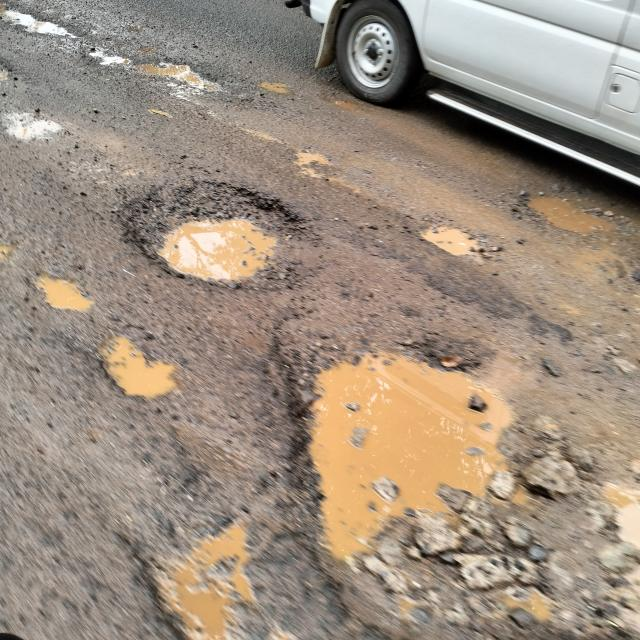pothole: (281, 326, 640, 640), (114, 180, 324, 301), (123, 512, 303, 640), (79, 328, 219, 404), (85, 35, 229, 100), (503, 196, 618, 250), (413, 200, 487, 280), (0, 5, 114, 54), (28, 262, 97, 322), (0, 100, 80, 151), (290, 138, 355, 186), (239, 118, 289, 150), (260, 77, 304, 111), (142, 104, 191, 132), (320, 95, 366, 117), (0, 228, 17, 283), (1, 64, 22, 91)
